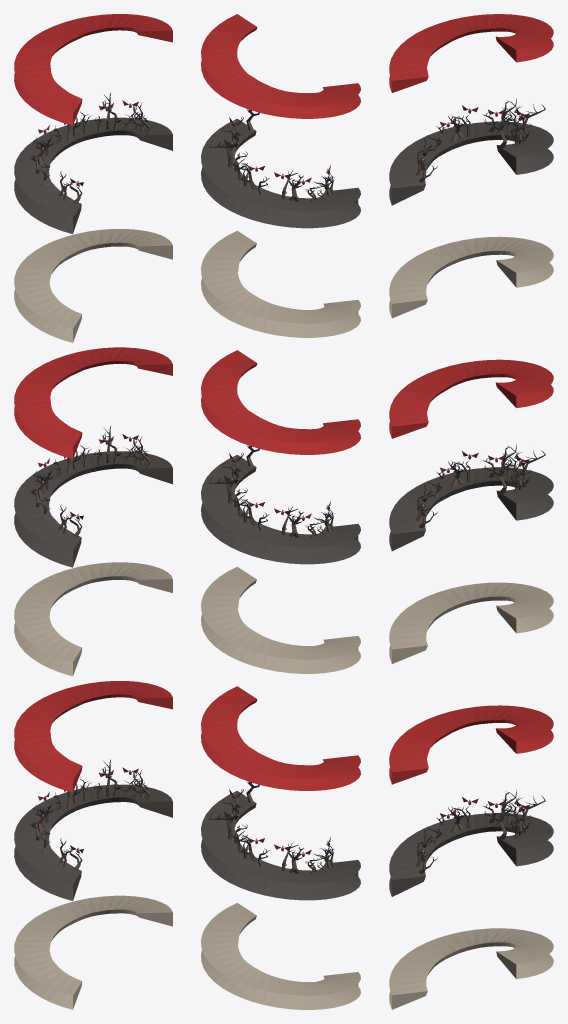
3 views of the same model, side by side, from view 1: azimuth 30°, elevation 25°; view 2: azimuth 150°, elevation 25°; view 3: azimuth 330°, elevation 25° (orthographic). The views are drawn at different scales.
Parts seen in each view (by area): view 1: Circle7; view 2: Circle7; view 3: Circle7.
Part boxes in pixels (left/top/right/bottom): Circle7: left=14, top=14, right=172, bottom=1009; Circle7: left=201, top=14, right=360, bottom=1009; Circle7: left=389, top=14, right=553, bottom=1009.
Size of the model in its own units: 38.88 by 255 by 33.19.
1 material, 1 textured.
